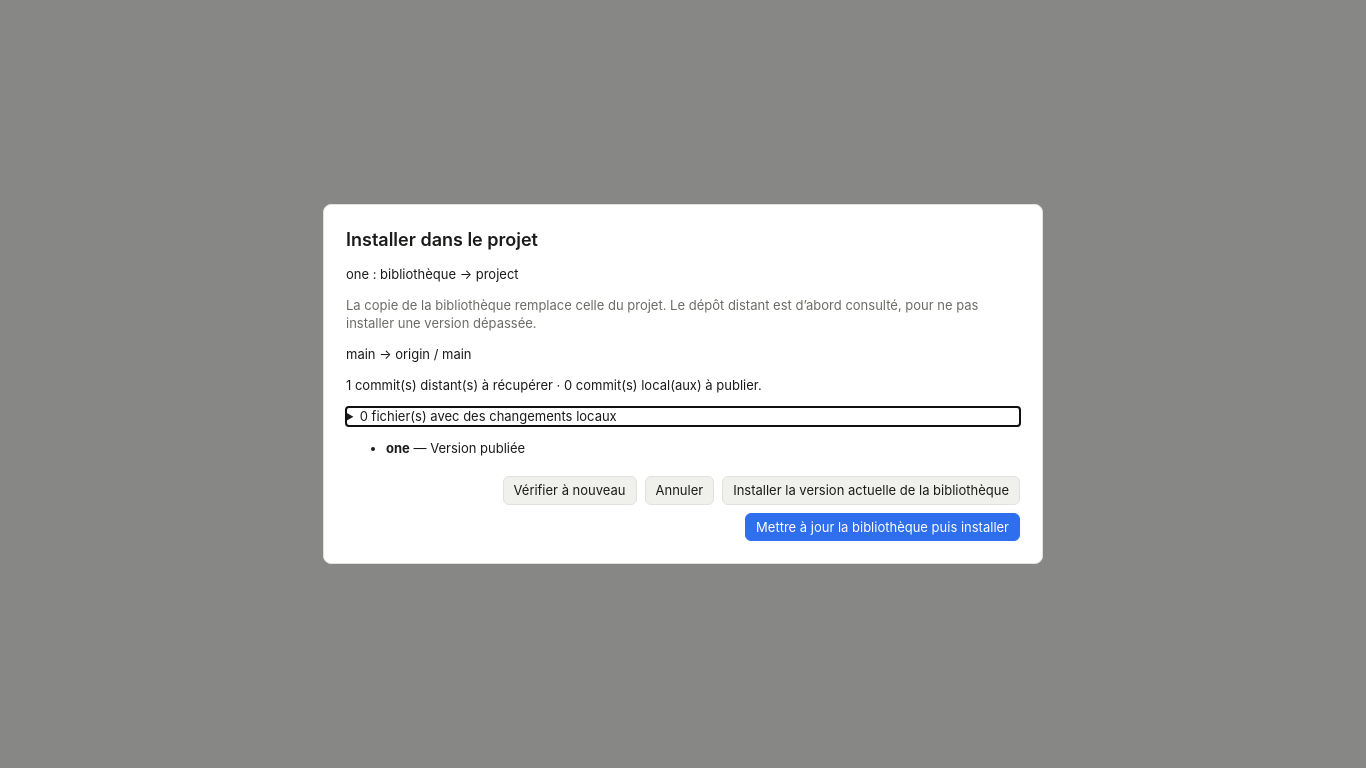
install verification › never falls back to a local install when the update fails
Expected: the text "1 commit(s) distant(s)" is shown, 346,377 -> 762,393
Click the button "Mettre à jour la bibliothèque puis installer" at [883, 527], box 745,512 -> 1020,541
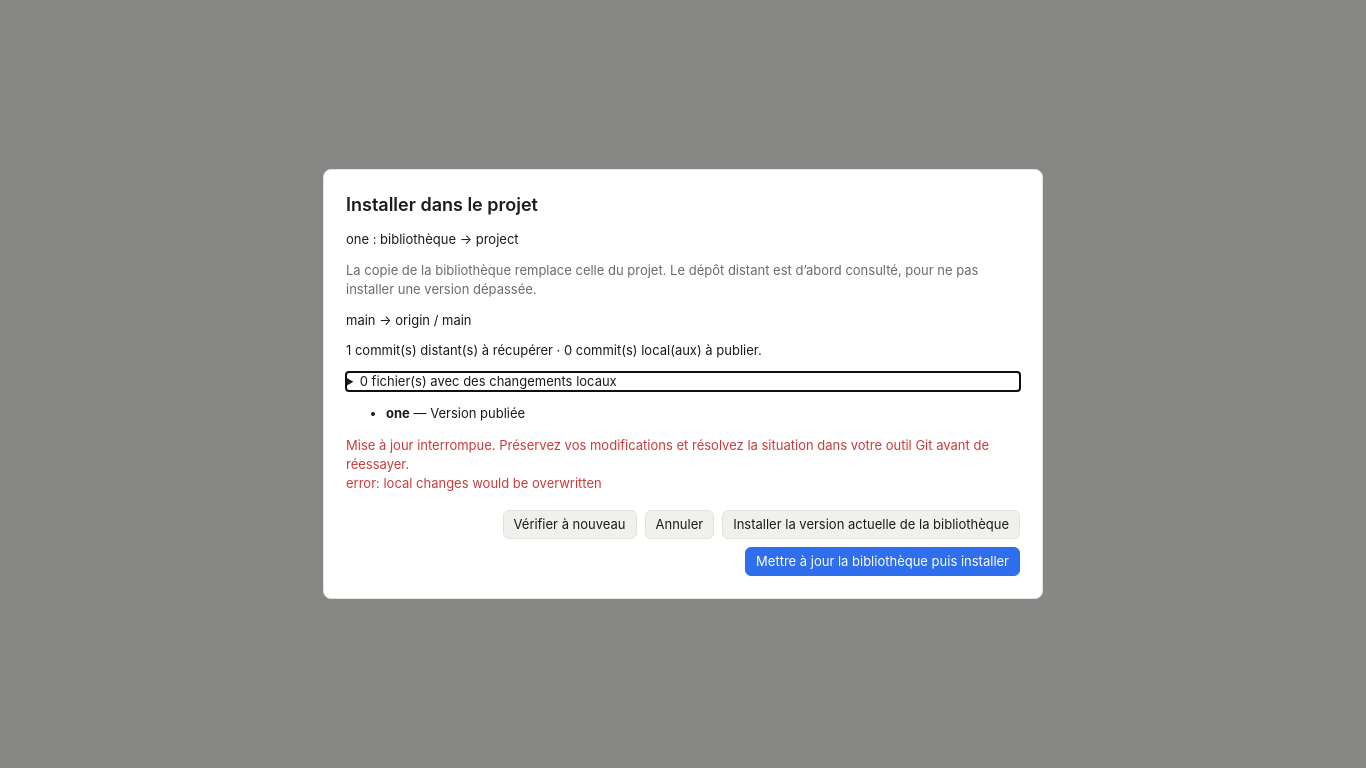
Now the message shows "Mise à jour interrompue.", box 346,437 -> 993,491
Now the message shows "local changes would be overwritten", box 346,437 -> 993,491
